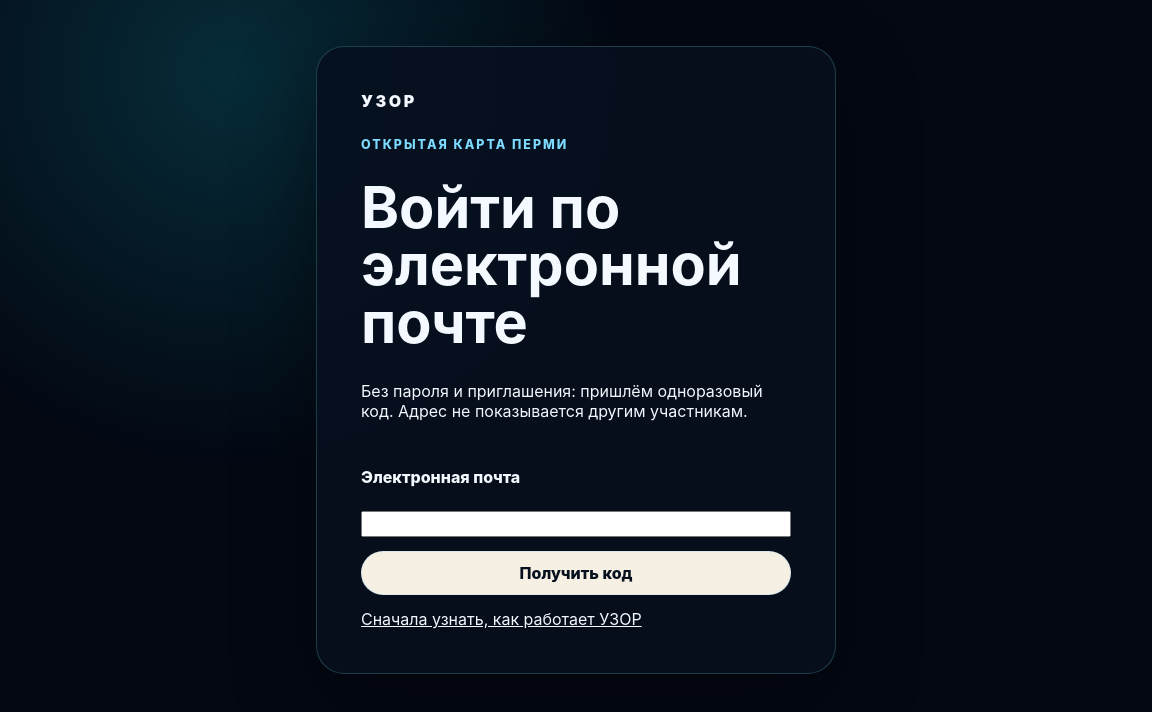
Test: AuthPage keyboard flow › shows and disables the resend cooldown after sending
Type "person@example.test" into the field labelled "Электронная почта" at (576, 524), box x1=361 y1=511 x2=791 y2=537
Then press Enter
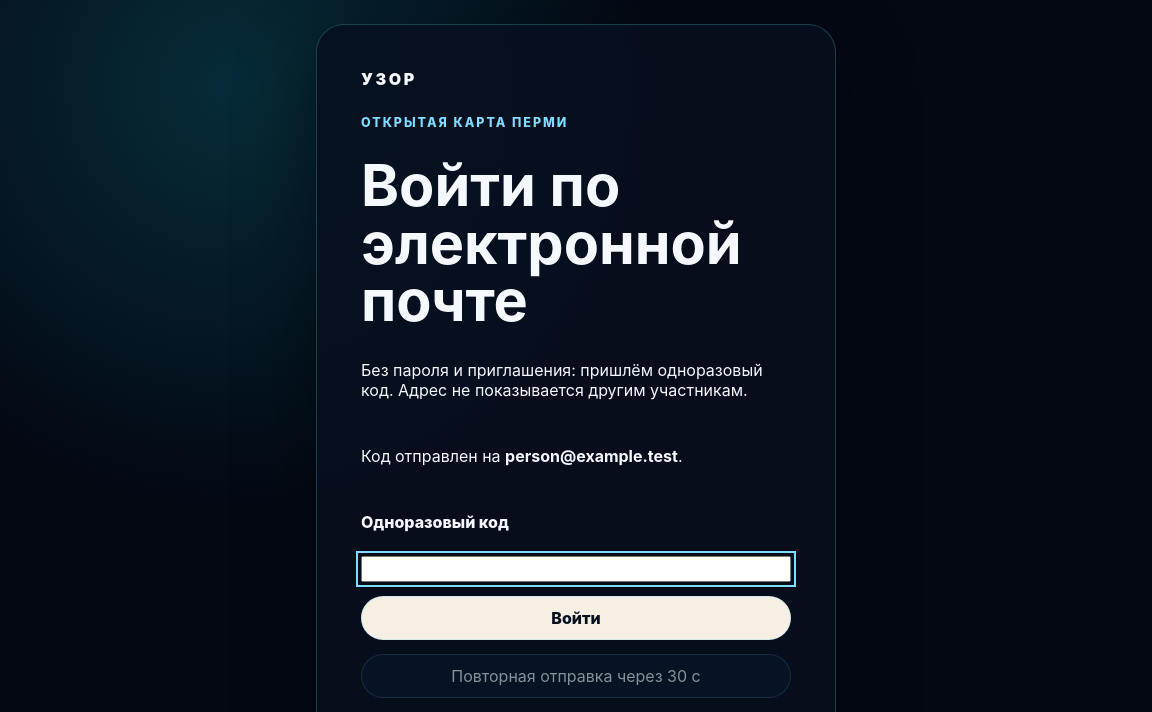
Check: the button "Повторная отправка через 30 с" is disabled, box x1=361 y1=654 x2=791 y2=698
